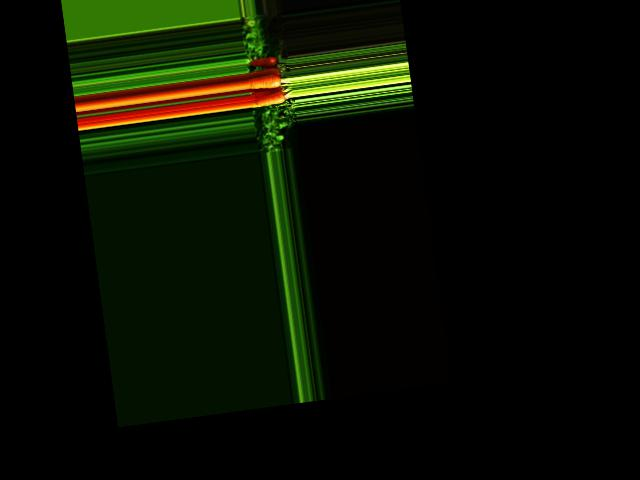carrot: (244, 53, 279, 72)
